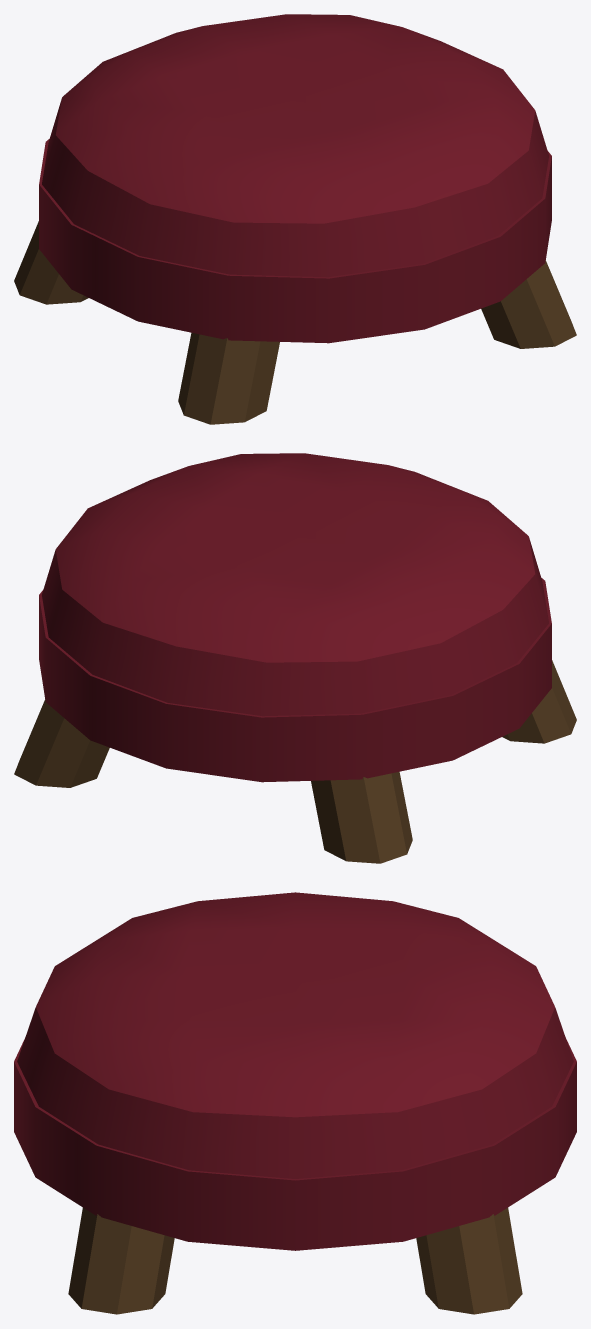
Rendered from pouf.fbx.
The picture shows the model from 3 angles, top to bottom: view 1: azimuth 30°, elevation 25°; view 2: azimuth 150°, elevation 25°; view 3: azimuth 270°, elevation 25°; orthographic projection. The views are drawn at different scales.
Parts seen in each view (by area): view 1: Prop_Pouffes_07; view 2: Prop_Pouffes_07; view 3: Prop_Pouffes_07.
Part boxes in pixels (x1,y1,x2,y2): Prop_Pouffes_07: (14,14,576,424); Prop_Pouffes_07: (14,453,576,863); Prop_Pouffes_07: (14,892,576,1314).
Bounding box in the file's own units: 78.03 × 36.18 × 78.03.
1 material, 1 textured.
